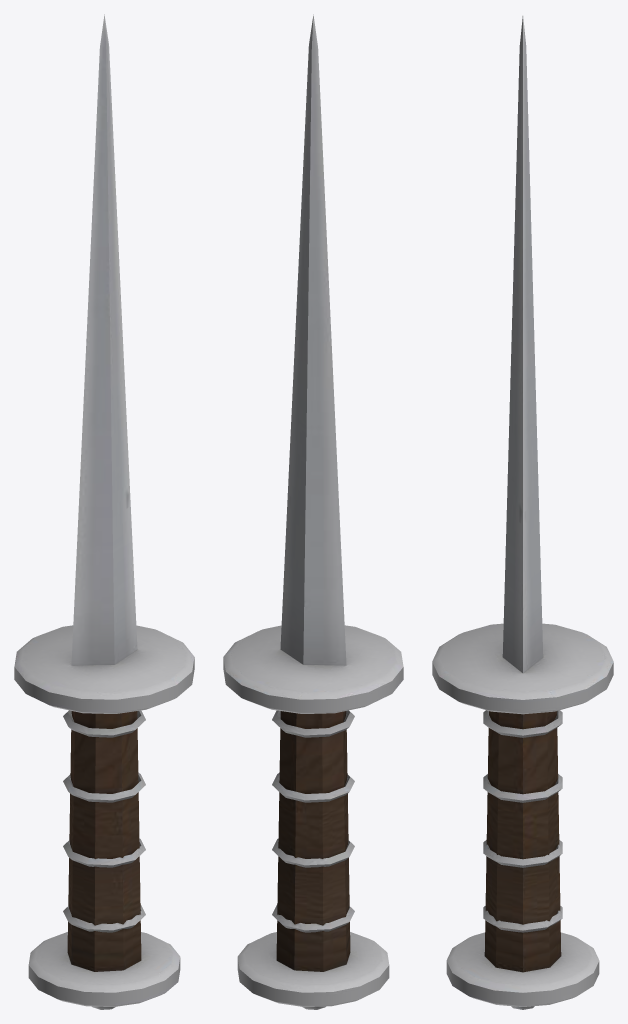
The model's file is dagger.glb.
3 views of the same model, side by side, from view 1: azimuth 30°, elevation 25°; view 2: azimuth 150°, elevation 25°; view 3: azimuth 270°, elevation 25° (orthographic).
Visible parts, largest first — view 1: SM_V_dagger, SM_V_dagger_Faste; view 2: SM_V_dagger, SM_V_dagger_Faste; view 3: SM_V_dagger, SM_V_dagger_Faste.
Part boxes in pixels (bbox=[...]): SM_V_dagger: bbox=[63, 14, 145, 971]; SM_V_dagger_Faste: bbox=[14, 625, 194, 1009]; SM_V_dagger: bbox=[272, 14, 354, 971]; SM_V_dagger_Faste: bbox=[223, 625, 403, 1009]; SM_V_dagger: bbox=[483, 16, 562, 972]; SM_V_dagger_Faste: bbox=[432, 623, 613, 1009].
Bounding box in the file's own units: 0.076 × 0.459 × 0.076.
Materials: 1 (1 with a texture image).
